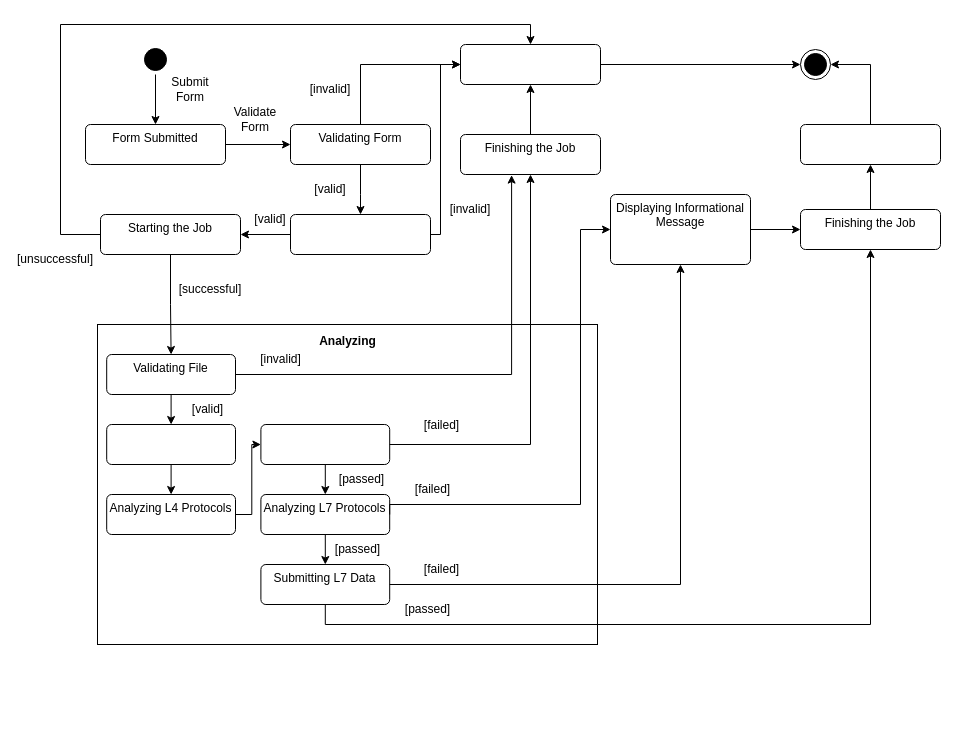
Image size: 958x742. Some labels were removed from this diagram. Here are the shapes that lost their labels. From the top down, the centre of each, then its label:
At (x=530, y=64): "Displaying Error".
At (x=870, y=144): "Showing Analysis".
At (x=360, y=234): "Queuing the Job".
At (x=171, y=444): "Analyzing L3 Protocols".
At (x=325, y=444): "Submitting L3-L4 Data".
